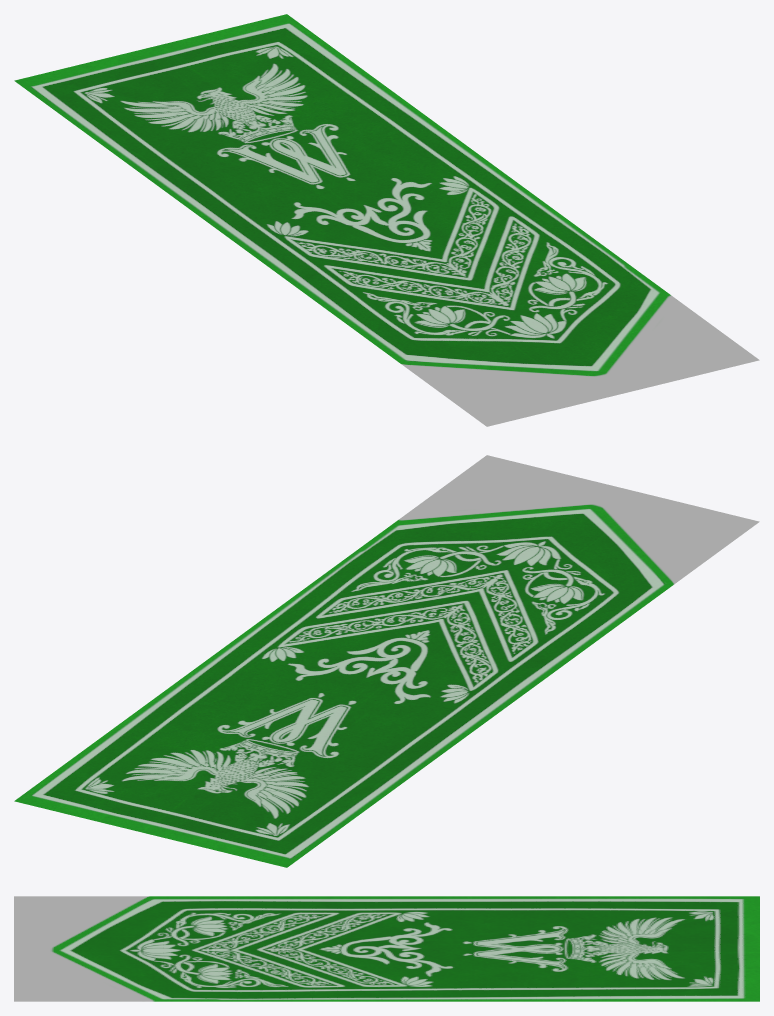
File: ClothModelGreen.gltf
The picture shows the model from 3 angles, top to bottom: view 1: azimuth 30°, elevation 25°; view 2: azimuth 150°, elevation 25°; view 3: azimuth 270°, elevation 25°; orthographic projection. The views are drawn at different scales.
Parts seen in each view (by area): view 1: ClothModel; view 2: ClothModel; view 3: ClothModel.
Part boxes in pixels (x1,y1,x2,y2): ClothModel: [14, 14, 759, 426]; ClothModel: [14, 455, 759, 867]; ClothModel: [14, 896, 759, 1001].
Bounding box in the file's own units: 1.2 × 7.99e-16 × 3.6.
1 material, 1 textured.
